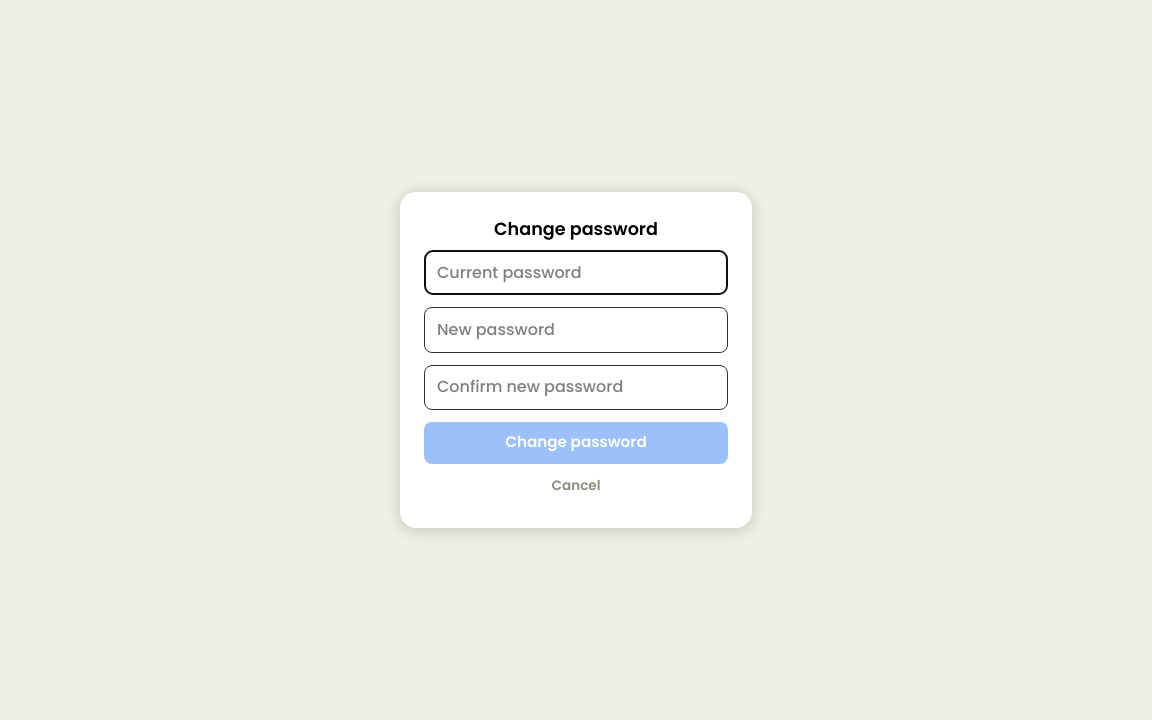
Test: ChangePasswordDialog › shows the success copy, only claiming other devices were signed out when they were
Type "old-password" into the password field with placeholder "Current password". click: (576, 273)
box: x1=424 y1=250 x2=728 y2=295
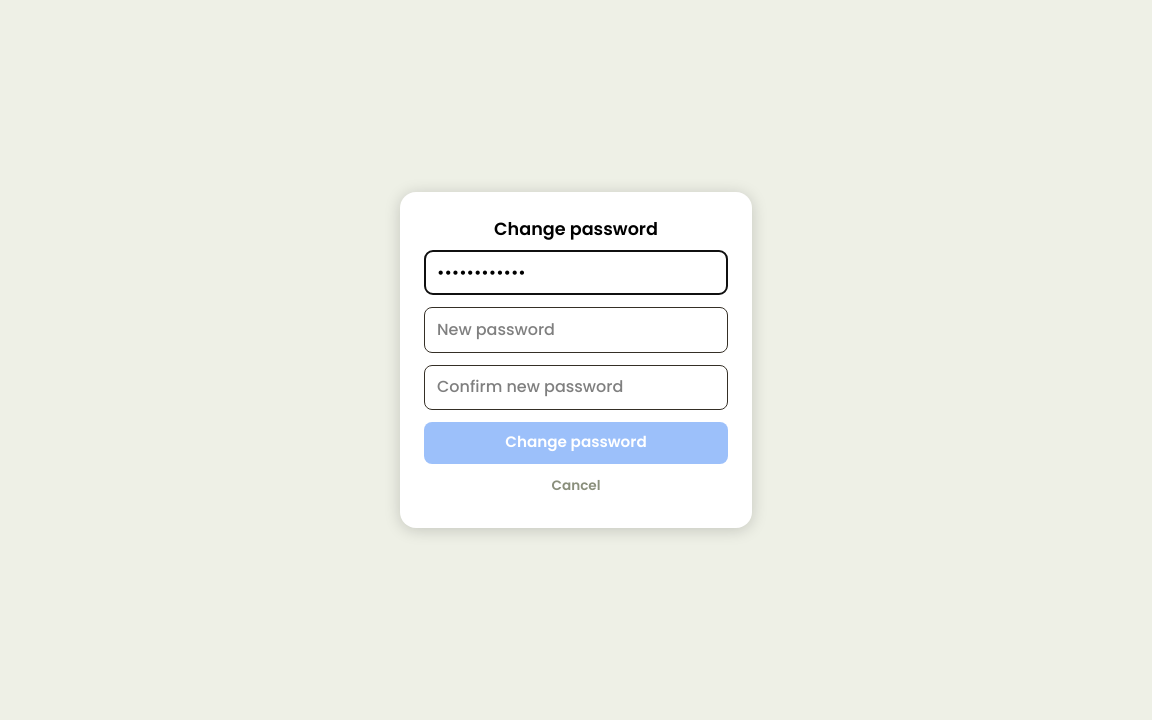
Type "new-password-1" into the password field with placeholder "New password". click: (576, 330)
box: x1=424 y1=307 x2=728 y2=353
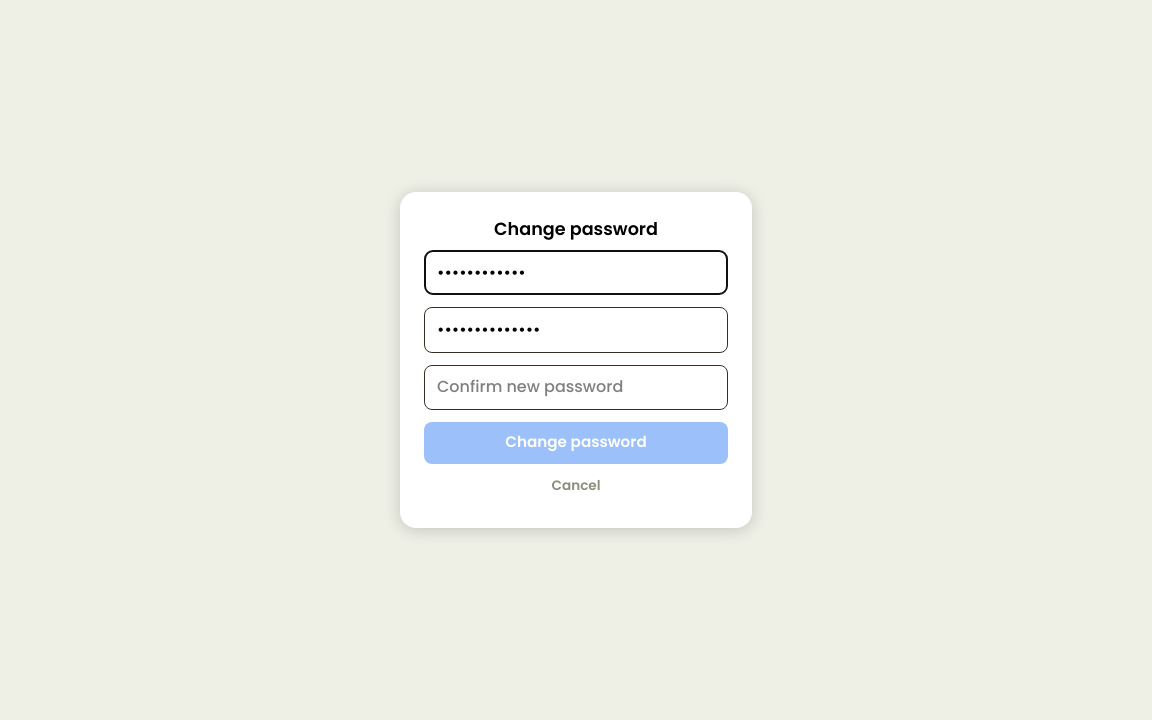
Type "new-password-1" into the password field with placeholder "Confirm new password". click: (576, 387)
box: x1=424 y1=365 x2=728 y2=410
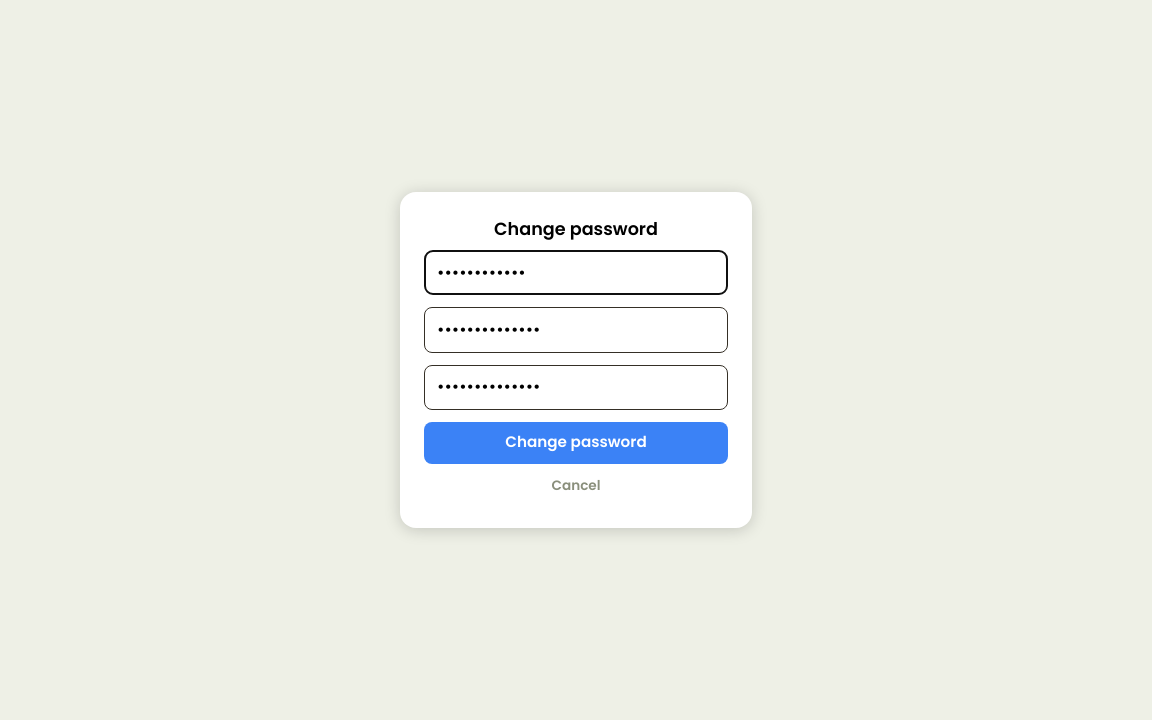
Submit the form "Change password", box x1=400 y1=192 x2=752 y2=528
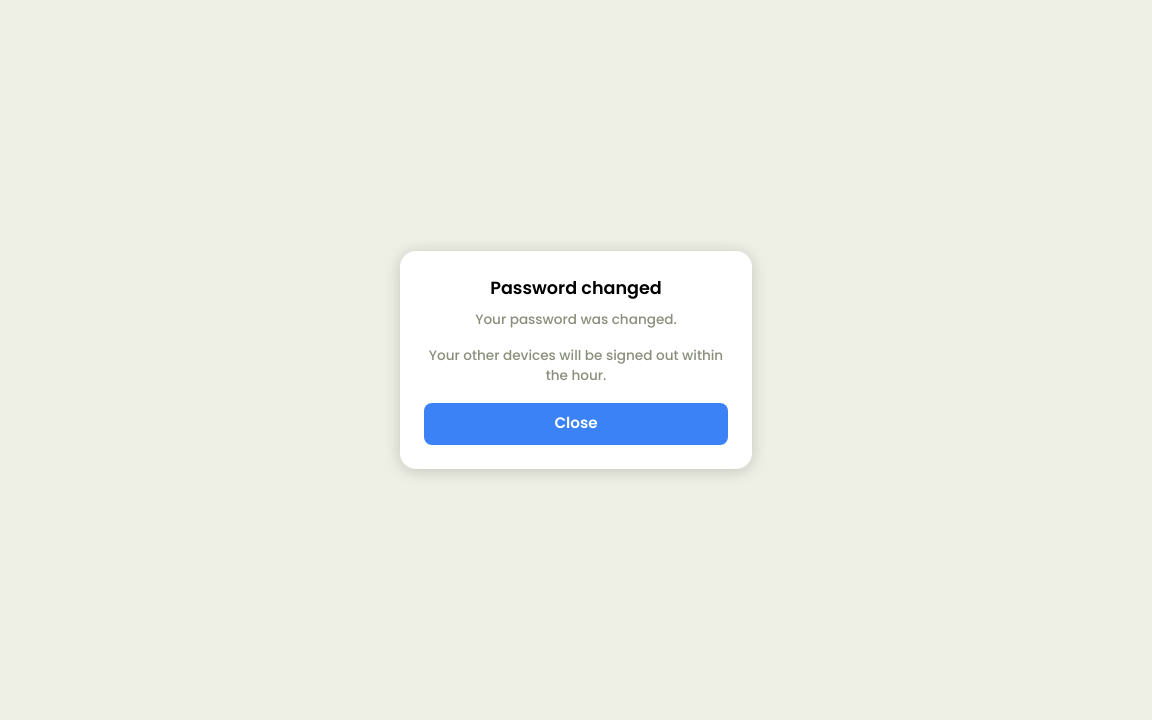
Check: the text "Your password was changed." is shown, box x1=475 y1=310 x2=677 y2=329
Check: the text "Your other devices will be signed out within the hour." is shown, box x1=424 y1=346 x2=728 y2=387
